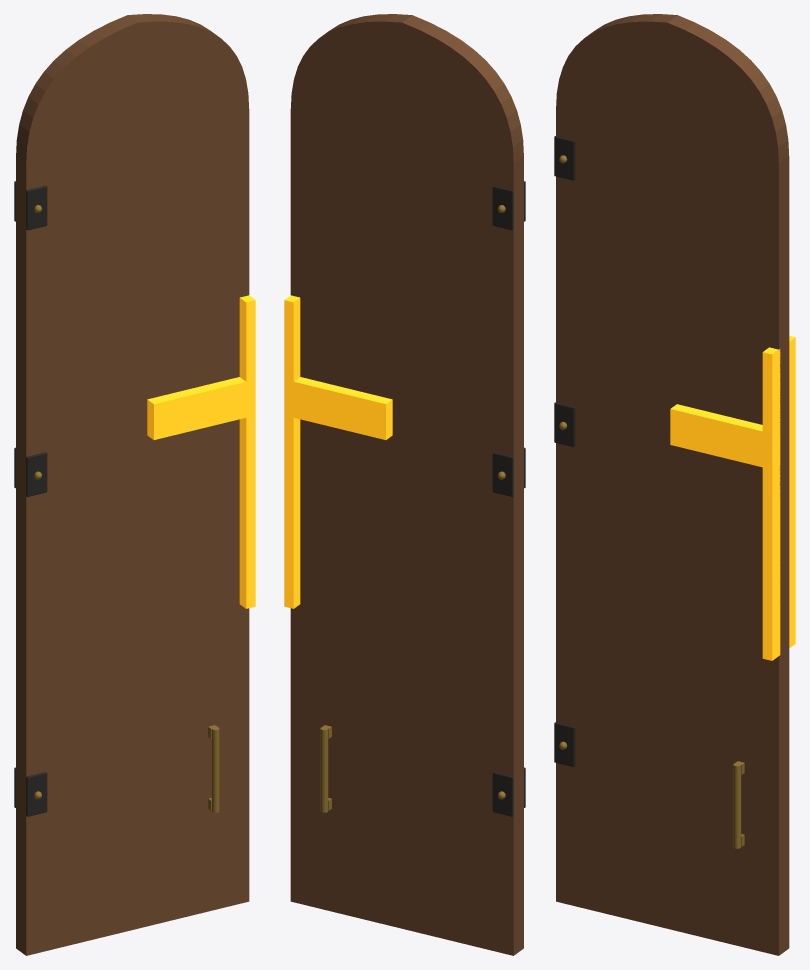
File: door-main.glb
3 views of the same model, side by side, from view 1: azimuth 30°, elevation 25°; view 2: azimuth 150°, elevation 25°; view 3: azimuth 330°, elevation 25° (orthographic).
Visible parts, largest first — view 1: Leaf, CrossHalfV, CrossHalfH, Hinge (×3), object 6; view 2: Leaf, CrossHalfV, CrossHalfH, Hinge (×3), object 17; view 3: Leaf, CrossHalfV (×2), CrossHalfH, Hinge (×3), object 6.
Part boxes in pixels (x1,y1,x2,y2): Leaf: [16, 14, 249, 955]; CrossHalfV: [239, 295, 255, 608]; CrossHalfH: [147, 377, 255, 439]; Hinge (×3): [26, 185, 47, 816]; object 6: [211, 727, 219, 812]; Leaf: [290, 14, 523, 955]; CrossHalfV: [284, 295, 300, 608]; CrossHalfH: [284, 377, 392, 439]; Hinge (×3): [492, 185, 513, 816]; object 17: [320, 727, 328, 812]; Leaf: [556, 14, 789, 955]; CrossHalfV (×2): [762, 336, 795, 660]; CrossHalfH: [670, 404, 780, 467]; Hinge (×3): [554, 136, 575, 766]; object 6: [733, 763, 741, 848].
Size of the model in its own units: 1.76 by 6.8 by 0.32.
